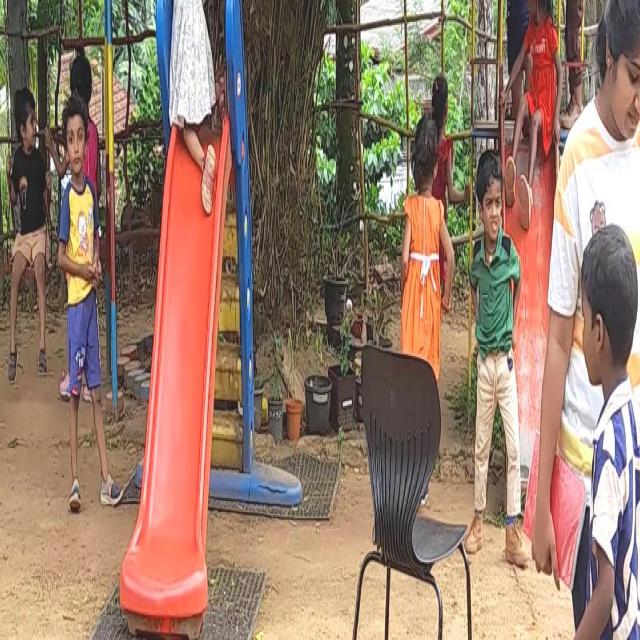child: (546, 218, 640, 640), (469, 160, 516, 566), (57, 97, 100, 526), (158, 0, 222, 206), (404, 105, 452, 378), (508, 0, 556, 225)
